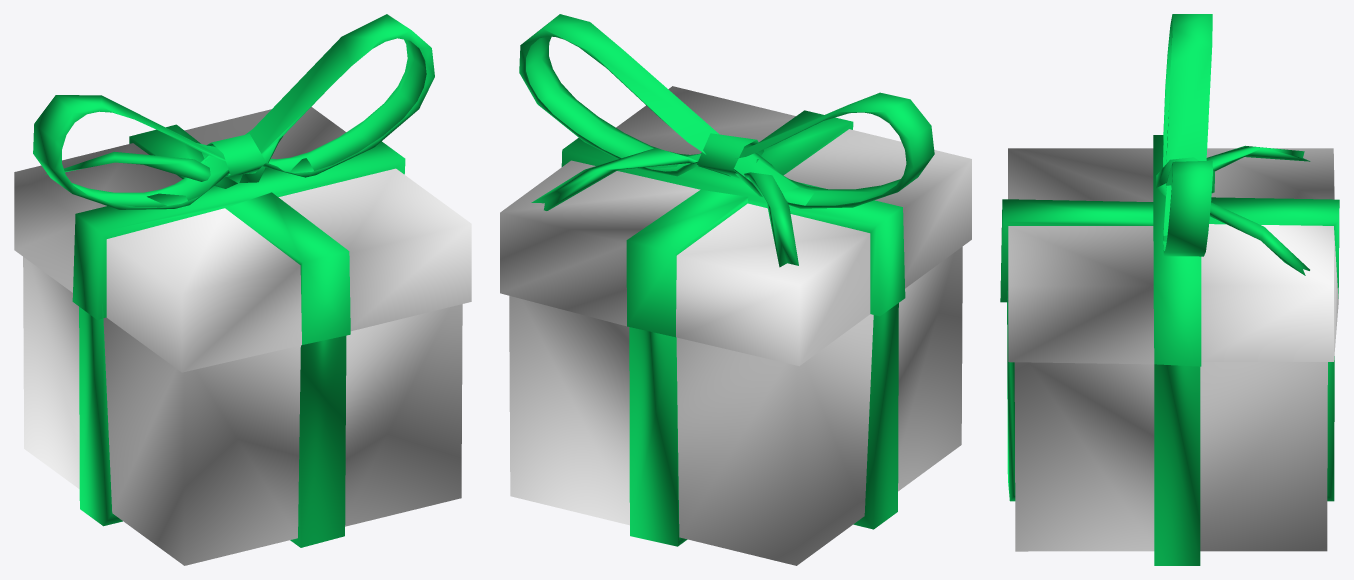
The model's file is WorldItem_CM_SmallPresent.fbx.
The picture shows the model from 3 angles, left to right: view 1: azimuth 30°, elevation 25°; view 2: azimuth 150°, elevation 25°; view 3: azimuth 270°, elevation 25°; orthographic projection. The views are drawn at different scales.
Parts seen in each view (by area): view 1: Cube.001; view 2: Cube.001; view 3: Cube.001.
Part boxes in pixels (bbox=[...]): Cube.001: bbox=[14, 14, 471, 565]; Cube.001: bbox=[500, 14, 971, 565]; Cube.001: bbox=[1000, 14, 1339, 565].
Bounding box in the file's own units: 0.1424 × 0.1474 × 0.1125.
